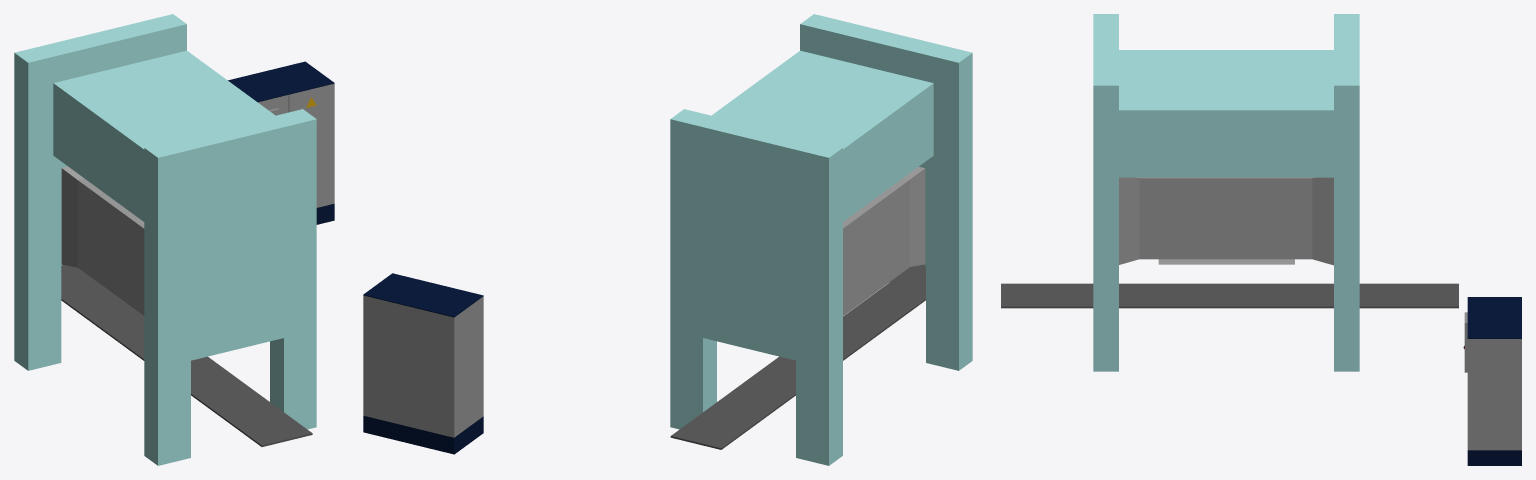
Rendered from mainSkeleton.fbx.
3 renders of one model, left to right at view 1: azimuth 30°, elevation 25°; view 2: azimuth 150°, elevation 25°; view 3: azimuth 270°, elevation 25°, orthographic. The views are drawn at different scales.
Visible parts, largest first — view 1: Esqueleto, PassadeiraTela, Prensa, Armario; view 2: Esqueleto, Armario, PassadeiraTela, Prensa; view 3: Esqueleto, Prensa, PassadeiraTela, Armario.
Boxes of the visible parts, x1=… form: Esqueleto: x1=14, y1=14, x2=316, y2=465; PassadeiraTela: x1=61, y1=265, x2=312, y2=446; Prensa: x1=61, y1=166, x2=144, y2=316; Armario: x1=228, y1=61, x2=334, y2=224; Esqueleto: x1=670, y1=14, x2=972, y2=465; Armario: x1=363, y1=273, x2=483, y2=454; PassadeiraTela: x1=670, y1=265, x2=925, y2=449; Prensa: x1=843, y1=166, x2=925, y2=316; Esqueleto: x1=1093, y1=14, x2=1359, y2=371; Prensa: x1=1119, y1=177, x2=1333, y2=265; PassadeiraTela: x1=1001, y1=283, x2=1458, y2=308; Armario: x1=1463, y1=297, x2=1521, y2=465.
Bounding box in the file's own units: 1495 × 1163 × 1921.
